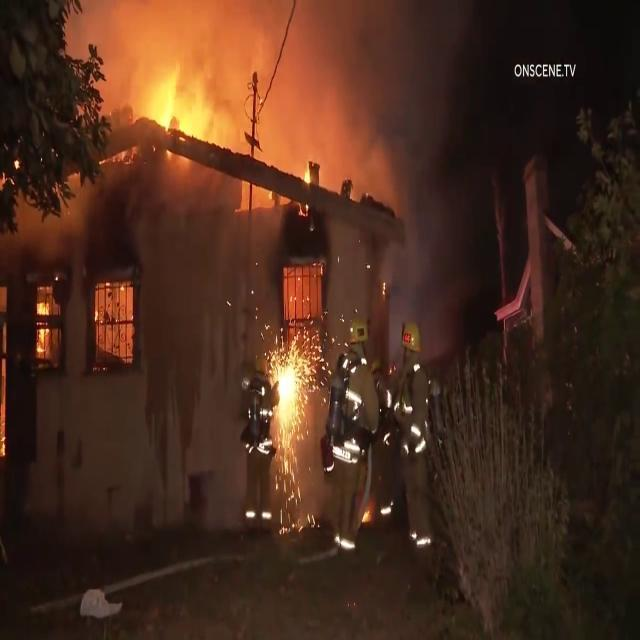Fire: (267, 140, 353, 255), (155, 100, 218, 174), (274, 343, 308, 459), (32, 296, 56, 381), (2, 378, 15, 457), (363, 506, 370, 524)
Smoke: (183, 0, 453, 129)
